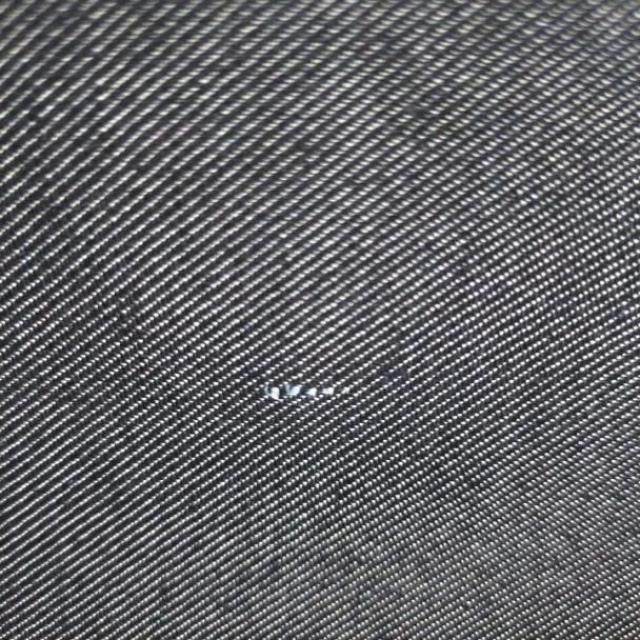Knot: (264, 384, 351, 401)
